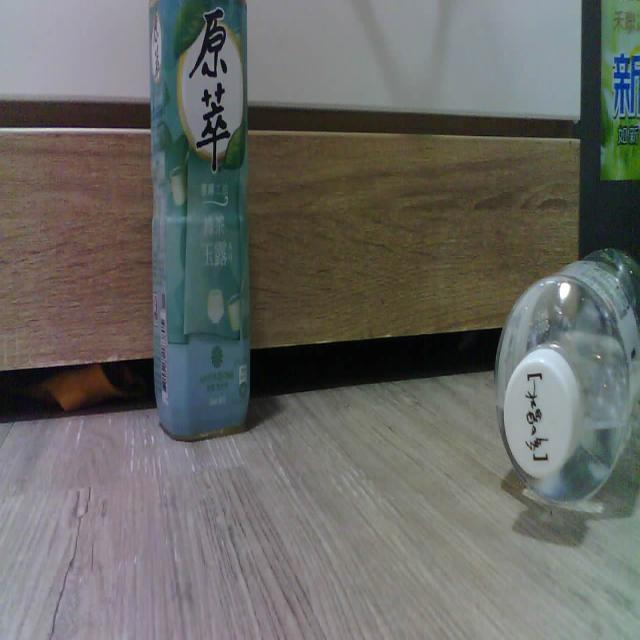bottle: (148, 0, 250, 439), (494, 249, 640, 502)
